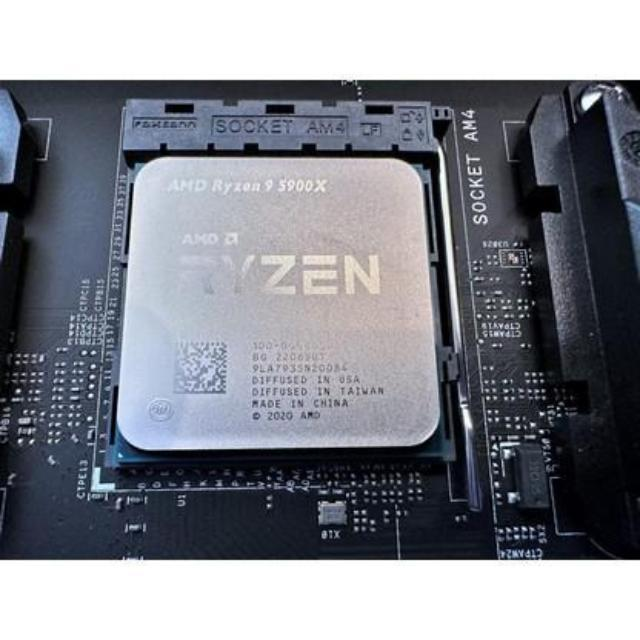CPU: (116, 150, 444, 458)
